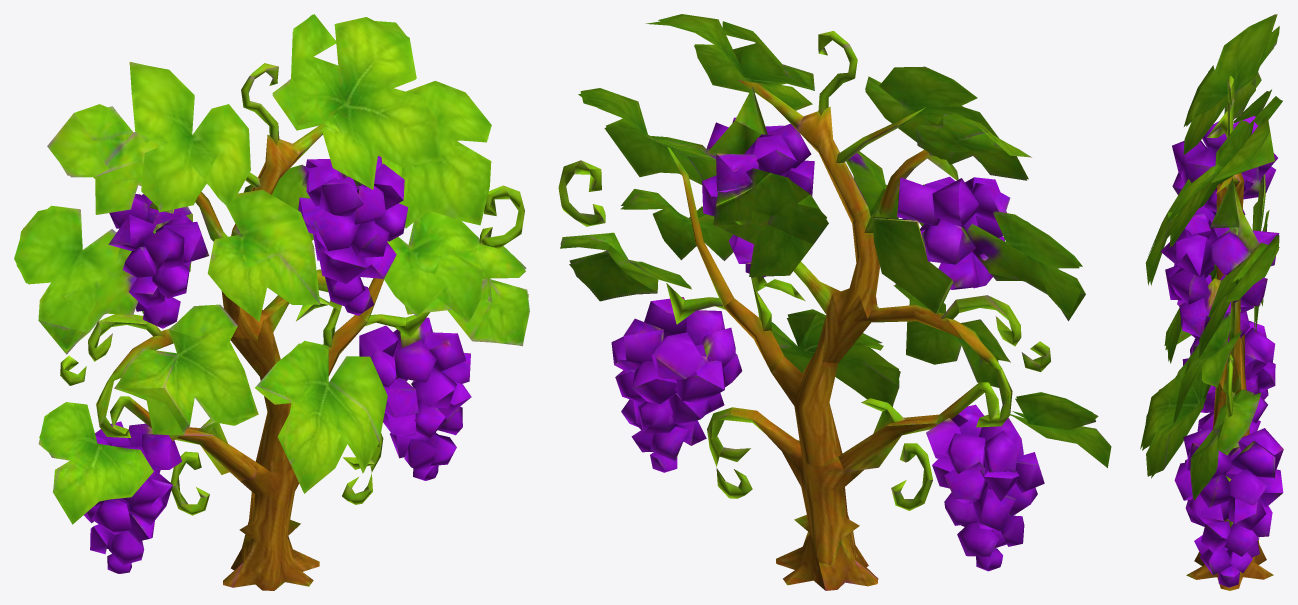
File: grapes.glb
The picture shows the model from 3 angles, left to right: view 1: azimuth 30°, elevation 25°; view 2: azimuth 150°, elevation 25°; view 3: azimuth 270°, elevation 25°; orthographic projection. The views are drawn at different scales.
Size of the model in its own units: 1 by 1 by 0.2607.
1 material, 1 textured.
